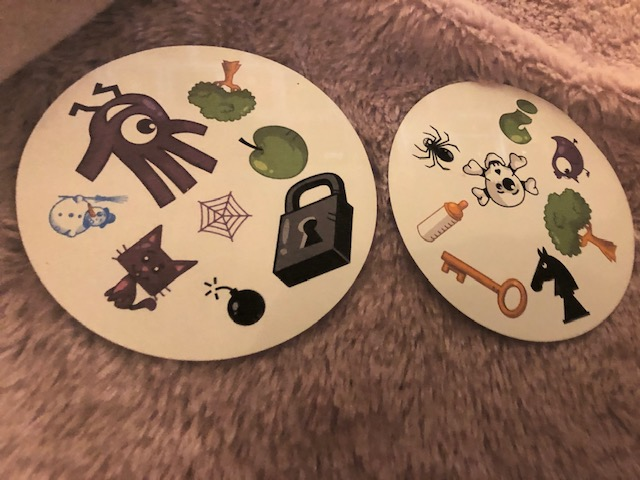araignee: (410, 123, 461, 175)
arbre: (542, 187, 619, 267), (188, 55, 259, 124)
biberon: (415, 195, 477, 248)
bombe: (201, 274, 269, 326)
bonhomme_neige: (46, 193, 131, 239)
cadenas: (264, 171, 354, 288)
chat: (98, 220, 204, 314)
cheval: (530, 248, 590, 323)
cle: (437, 251, 529, 320)
dooble: (55, 77, 224, 207)
oiseau: (549, 132, 591, 185)
point_interrogation: (494, 93, 545, 145)
pomme: (238, 120, 309, 182)
tete_mort: (460, 146, 541, 212)
toile: (191, 186, 255, 247)
